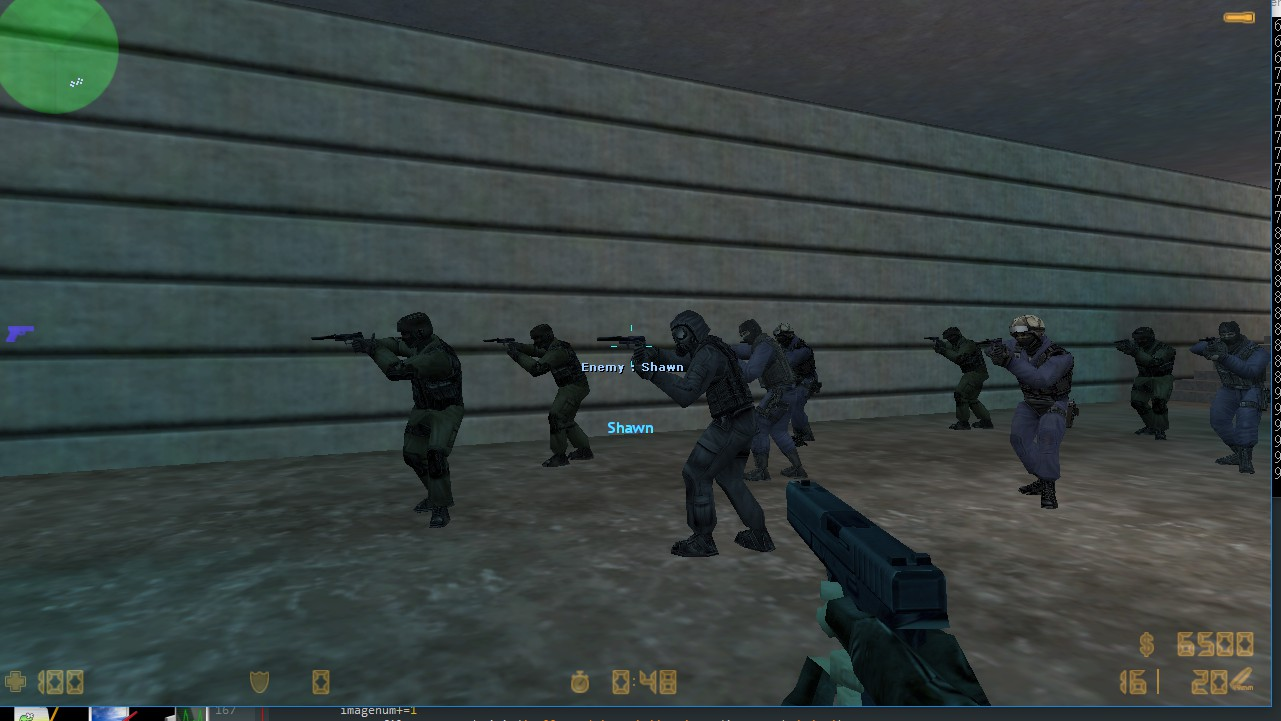person: (652, 300, 770, 558), (369, 302, 473, 536), (988, 293, 1083, 516), (515, 314, 604, 470), (1198, 311, 1264, 477), (736, 315, 801, 479), (927, 318, 1000, 439), (773, 320, 825, 445), (1122, 317, 1175, 439)
